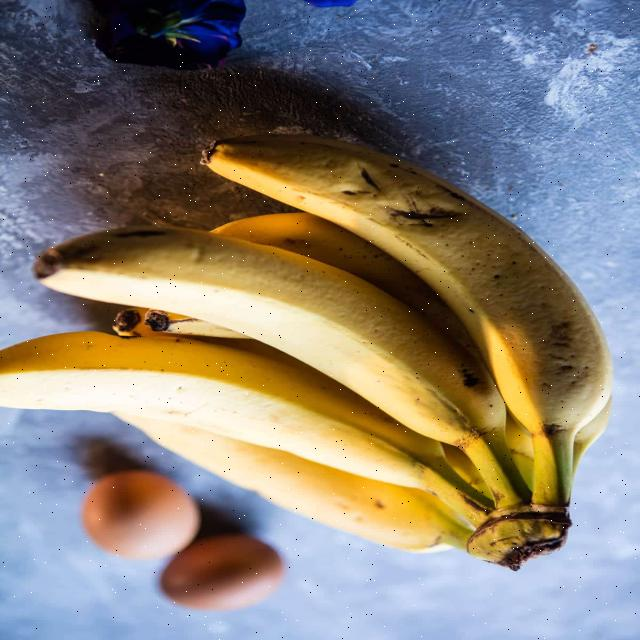Pisang: (21, 134, 614, 572), (1, 306, 508, 558)
